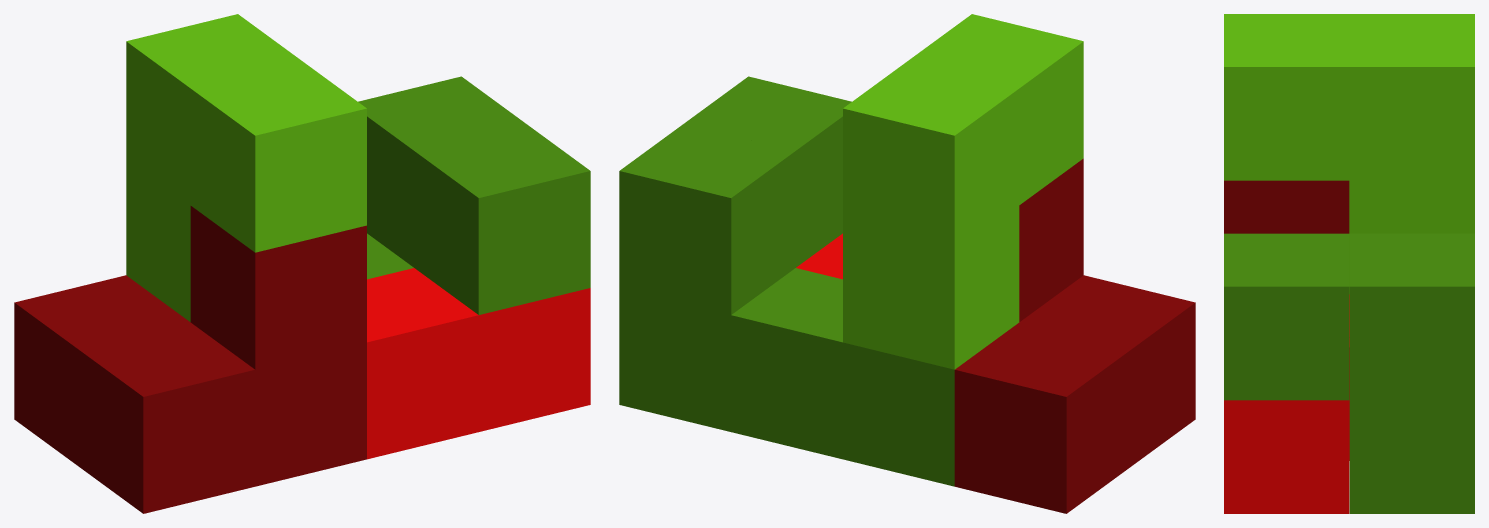
3 renders of one model, left to right at view 1: azimuth 30°, elevation 25°; view 2: azimuth 150°, elevation 25°; view 3: azimuth 270°, elevation 25°, orthographic. The views are drawn at different scales.
Parts seen in each view (by area): view 1: mergedBlocks(Clone); view 2: mergedBlocks(Clone); view 3: mergedBlocks(Clone).
Boxes of the visible parts, x1,y1,x2,y2 form: mergedBlocks(Clone): (14,14,590,513); mergedBlocks(Clone): (619,14,1195,513); mergedBlocks(Clone): (1224,14,1474,513).
Size of the model in its own units: 4 by 3 by 2.
4 materials, 4 textured.
